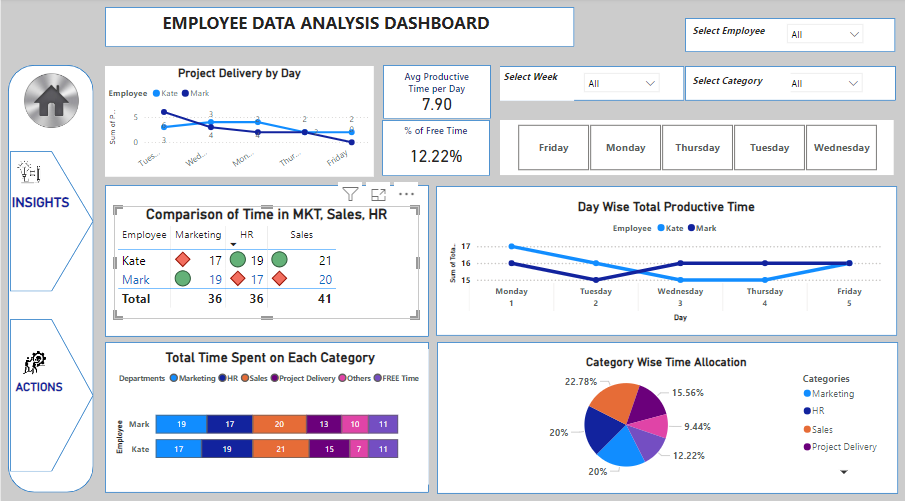

The page's visual inventory and layout, read from the dashboard file:
{"tool":"powerbi","page":{"name":"Main Dashboard","canvas":[1280,720],"ordinal":0},"visuals":[{"type":"shape","box":[147.2,13,665.1,56.3],"z":0},{"type":"textbox","title":"SALES AND MARKETING","box":[223.6,13,608.8,54.8],"z":1000},{"type":"shape","box":[616.1,266.9,653.6,212.1],"z":2000},{"type":"shape","box":[541,95.2,152.9,76.5],"z":3000},{"type":"shape","box":[147.2,487.7,458.8,213.5],"z":4000},{"type":"shape","box":[147.2,265.5,458.8,215],"z":5000},{"type":"shape","box":[970,27.7,298,48.3],"z":6000},{"type":"textbox","box":[975.3,33.2,144.3,36.1],"z":7000},{"type":"slicer","fields":{"Values":["Employee Data.Employee"]},"box":[1103.7,27.4,128.4,49.1],"z":8000},{"type":"barChart","title":"Total Time Spent on Each Category","fields":{"Category":["Employee Data.Employee"],"Y":["Employee Data.Marketing","Employee Data.HR","Employee Data.Sales","Employee Data.Project Delivery","Employee Data.Others","EmployeeData.FREE Time"]},"box":[157.3,497.8,448.7,191.9],"z":9000},{"type":"lineChart","title":"Day Wise Total Productive Time","fields":{"Y":["Employee Data.Total Productive Time"],"Series":["Employee Data.Employee"],"Category":["Employee Data.Day of the Week","Employee Data.Day"]},"box":[630.5,284.2,624.7,178.9],"z":10000},{"type":"card","title":"Avg Productive Time per Day","fields":{"Values":["Employee Data.Avg Day Productivity"]},"box":[558.3,102.4,118.3,62],"z":11000},{"type":"shape","box":[539.6,173.1,152.9,79.4],"z":12000},{"type":"card","title":"% of Free Time ","fields":{"Values":["EmployeeData.Percentage of Free Time"]},"box":[545.4,178.9,141.4,70.7],"z":13000},{"type":"tableEx","title":"Comparison of Time in MKT, Sales, HR","fields":{"Values":["EmployeeData.Employee","EmployeeData.Marketing","EmployeeData.HR","EmployeeData.Sales"]},"box":[160.1,294.3,432.8,160.1],"z":14000},{"type":"slicer","fields":{"Values":["EmployeeData.Day"]},"box":[707,173.1,558.3,77.9],"z":15000},{"type":"shape","box":[617.5,487.7,653.6,215],"z":16000},{"type":"pieChart","title":"Category Wise Time Allocation ","fields":{"Y":["EmployeeData.Marketing","EmployeeData.HR","EmployeeData.Sales","EmployeeData.Project Delivery","EmployeeData.Others","EmployeeData.FREE Time"]},"box":[630.5,506.4,624.7,178.9],"z":17000},{"type":"shape","box":[969.5,96.7,298.7,49.1],"z":18000},{"type":"slicer","fields":{"Values":["Category.Category"]},"box":[1103.7,96.7,127,49.1],"z":19000},{"type":"textbox","box":[975.3,103.9,144.3,36.1],"z":20000},{"type":"shape","box":[707,96.7,261.1,49.1],"z":21000},{"type":"slicer","fields":{"Values":["EmployeeData.Week"]},"box":[816.6,96.7,127,49.1],"z":22000},{"type":"lineChart","title":"Project Delivery by Day","fields":{"Category":["EmployeeData.Day"],"Y":["EmployeeData.Project Delivery"],"Series":["EmployeeData.Employee"]},"box":[147.2,95.2,380.9,157.3],"z":23000},{"type":"textbox","box":[707,98.1,105.3,47.6],"z":24000},{"type":"shape","box":[10.1,95.2,121.2,606],"z":25000},{"type":"image","box":[15.9,92.3,111.1,106.8],"z":26000},{"type":"shape","box":[13,216.4,118.3,199.1],"z":27000},{"type":"image","box":[0,212.1,80.8,69.3],"z":28000},{"type":"textbox","box":[0,274.1,116.9,46.2],"z":29000},{"type":"shape","box":[13,454.5,118.3,216.4],"z":30000},{"type":"image","box":[0,480.4,95.2,63.5],"z":31000},{"type":"textbox","box":[13,535.3,82.2,47.6],"z":32000}]}

Visuals, with their boxes in screenshot pixels (x1, y1, x2, y2), scaled from the page's 1280x720 canvas onto the 905x501 screenshot:
shape: [104, 9, 574, 48]
"SALES AND MARKETING" textbox: [158, 9, 589, 47]
shape: [436, 186, 898, 333]
shape: [383, 66, 491, 119]
shape: [104, 339, 428, 488]
shape: [104, 185, 428, 334]
shape: [686, 19, 897, 53]
textbox: [690, 23, 792, 48]
slicer - Employee Data.Employee: [780, 19, 871, 53]
"Total Time Spent on Each Category" barChart: [111, 346, 428, 480]
"Day Wise Total Productive Time" lineChart: [446, 198, 887, 322]
"Avg Productive Time per Day" card: [395, 71, 478, 114]
shape: [382, 120, 490, 176]
"% of Free Time " card: [386, 124, 486, 174]
"Comparison of Time in MKT, Sales, HR" tableEx: [113, 205, 419, 316]
slicer - EmployeeData.Day: [500, 120, 895, 175]
shape: [437, 339, 899, 489]
"Category Wise Time Allocation " pieChart: [446, 352, 887, 477]
shape: [685, 67, 897, 101]
slicer - Category.Category: [780, 67, 870, 101]
textbox: [690, 72, 792, 97]
shape: [500, 67, 684, 101]
slicer - EmployeeData.Week: [577, 67, 667, 101]
"Project Delivery by Day" lineChart: [104, 66, 373, 176]
textbox: [500, 68, 574, 101]
shape: [7, 66, 93, 488]
image: [11, 64, 90, 139]
shape: [9, 151, 93, 289]
image: [0, 148, 57, 196]
textbox: [0, 191, 83, 223]
shape: [9, 316, 93, 467]
image: [0, 334, 67, 378]
textbox: [9, 372, 67, 406]
